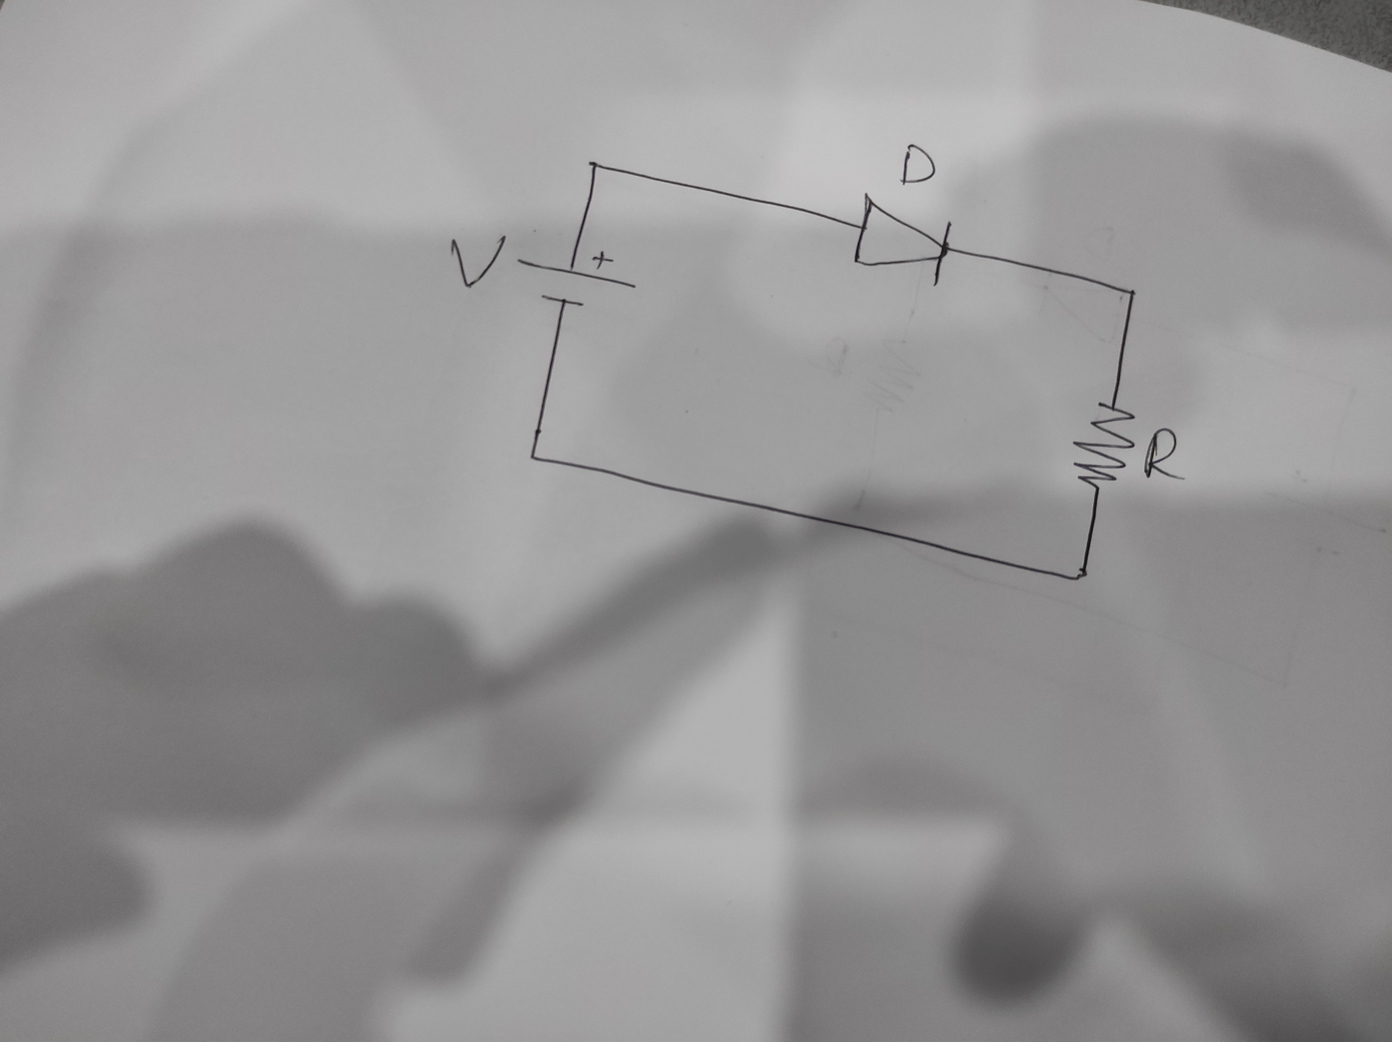diode: (850, 190, 955, 286)
junction: (584, 155, 605, 180), (1067, 566, 1090, 586), (1121, 285, 1140, 302), (524, 448, 542, 466)
resistor: (1070, 398, 1137, 493)
text: (448, 233, 508, 288), (1141, 425, 1188, 481), (897, 141, 938, 188)
voltage.dc: (514, 250, 638, 309)
